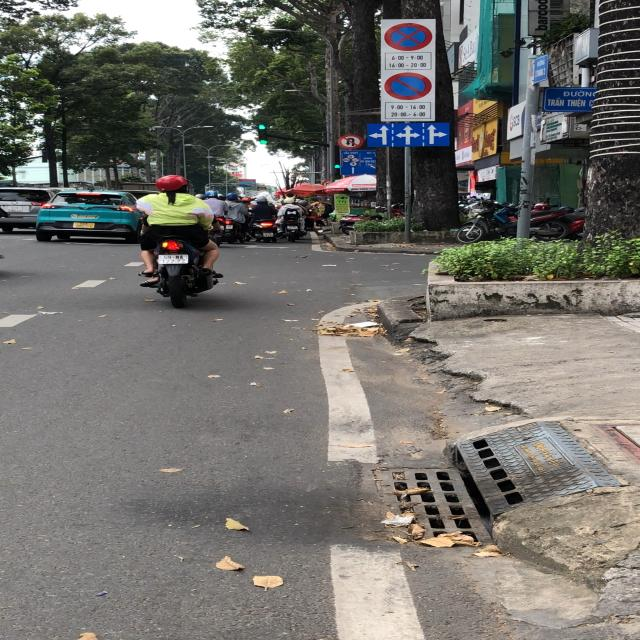Bien bao cam do xe: (383, 68, 435, 103)
Bien bao cam dung xe va do xe: (383, 22, 438, 52)
Bien bao cam quay dau xe: (337, 133, 365, 151)
